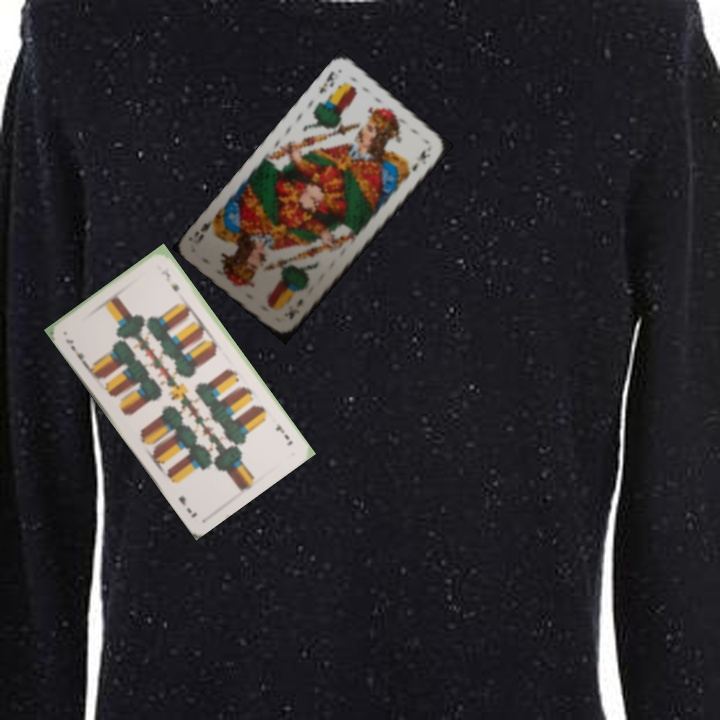E7: (62, 335, 89, 368), (272, 420, 295, 449)
EK: (315, 66, 337, 96), (285, 294, 306, 322)
